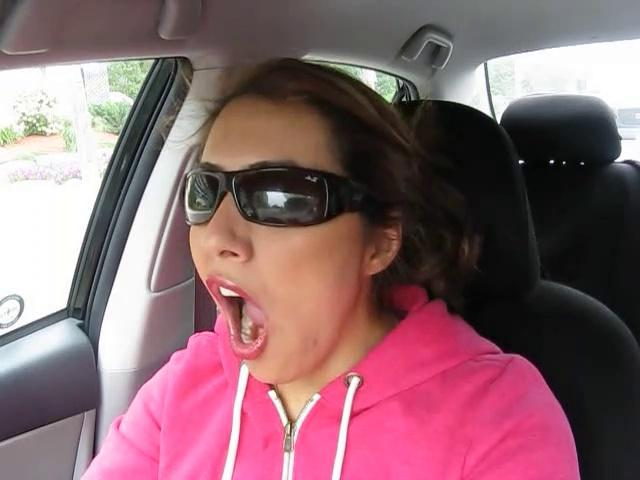yawn: (192, 275, 283, 363)
